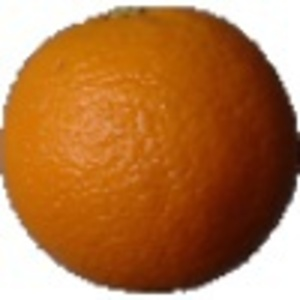laranja: (3, 2, 298, 295)
